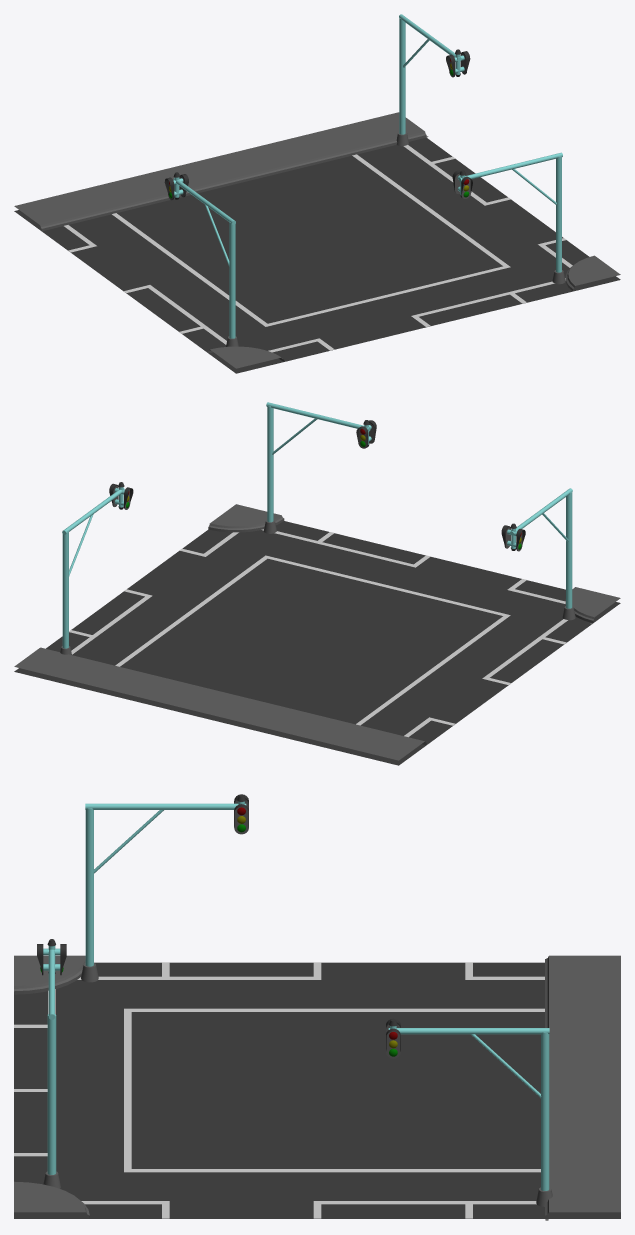
File: TIntersection.fbx
3 views of the same model, one above another, from view 1: azimuth 30°, elevation 25°; view 2: azimuth 150°, elevation 25°; view 3: azimuth 270°, elevation 25° (orthographic). The views are drawn at different scales.
Visible parts, largest first — view 1: TIntersection; view 2: TIntersection; view 3: TIntersection.
Boxes of the visible parts, left/top/right/bottom form: TIntersection: left=14, top=14, right=620, bottom=373; TIntersection: left=14, top=402, right=620, bottom=765; TIntersection: left=14, top=794, right=620, bottom=1220.
Bounding box in the file's own units: 1610 × 532 × 1600.
